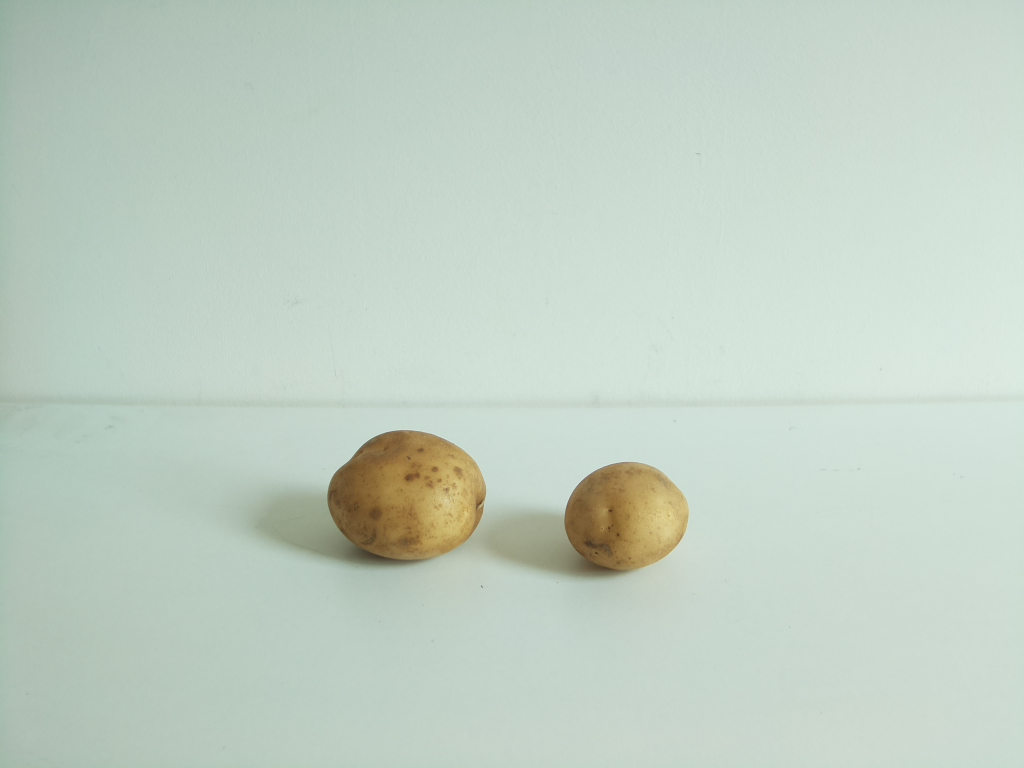potatoes: (326, 428, 489, 563), (559, 461, 689, 577)
